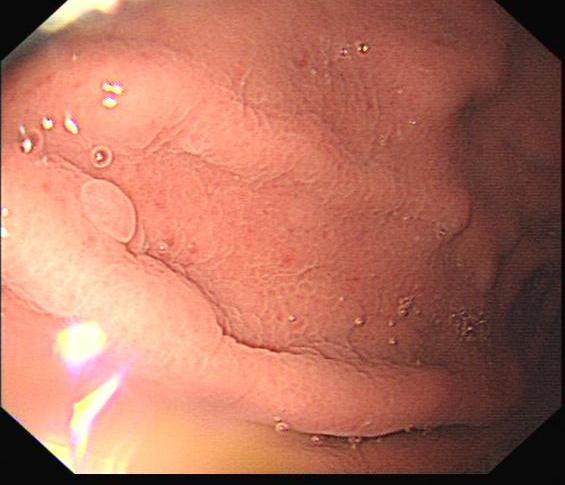Polyp: (66, 159, 151, 256)
